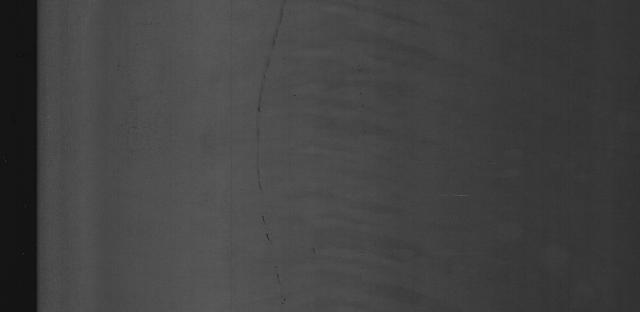inclusion: (246, 12, 297, 300)
